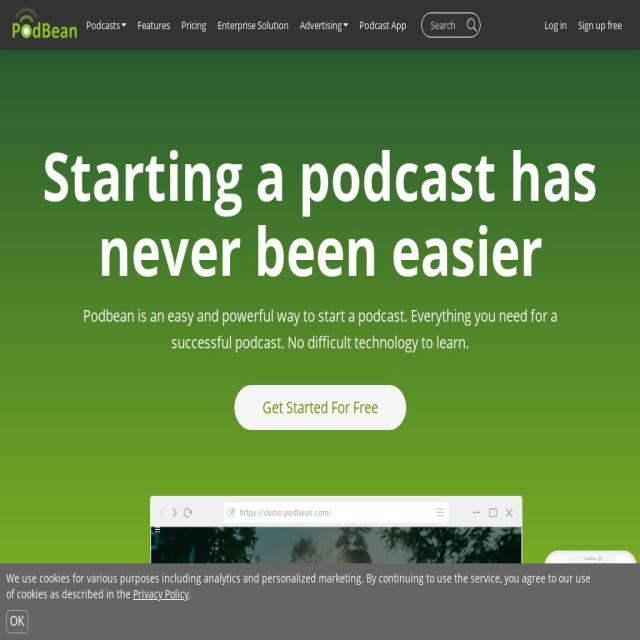button: (234, 385, 406, 430), (0, 3, 81, 42), (215, 13, 291, 37), (298, 13, 350, 37), (357, 13, 409, 37), (576, 13, 624, 37), (84, 13, 128, 37), (135, 13, 173, 37), (179, 13, 209, 37), (542, 13, 569, 37), (6, 610, 29, 633)
field: (421, 12, 481, 38)
heading: (42, 129, 598, 220), (98, 204, 542, 295)
image: (0, 496, 640, 640), (12, 7, 77, 39)
link: (133, 586, 189, 602)
text: (6, 570, 591, 602), (82, 304, 558, 327), (171, 331, 469, 353), (300, 18, 342, 32), (86, 18, 120, 32), (189, 586, 191, 602)
